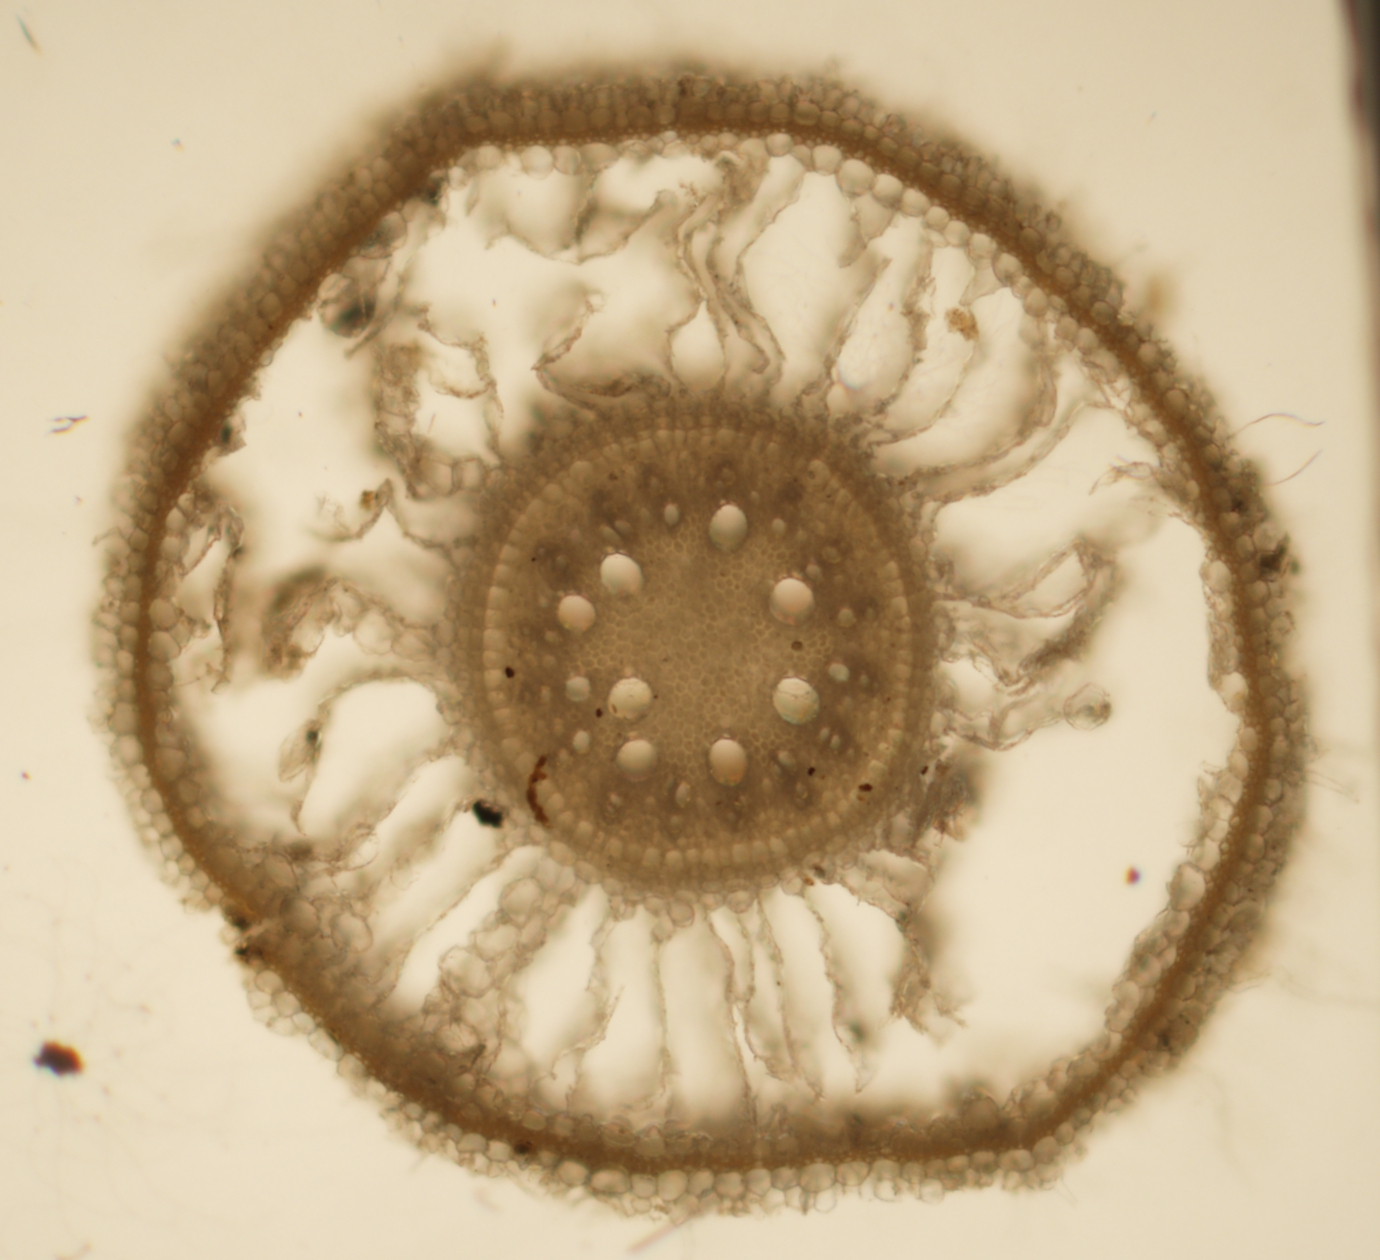lm: (773, 677, 820, 725), (768, 578, 815, 626), (600, 553, 644, 598), (708, 504, 746, 554), (607, 677, 652, 720), (709, 738, 746, 787), (618, 739, 656, 781), (557, 595, 596, 632), (564, 674, 590, 702), (572, 729, 590, 755)
